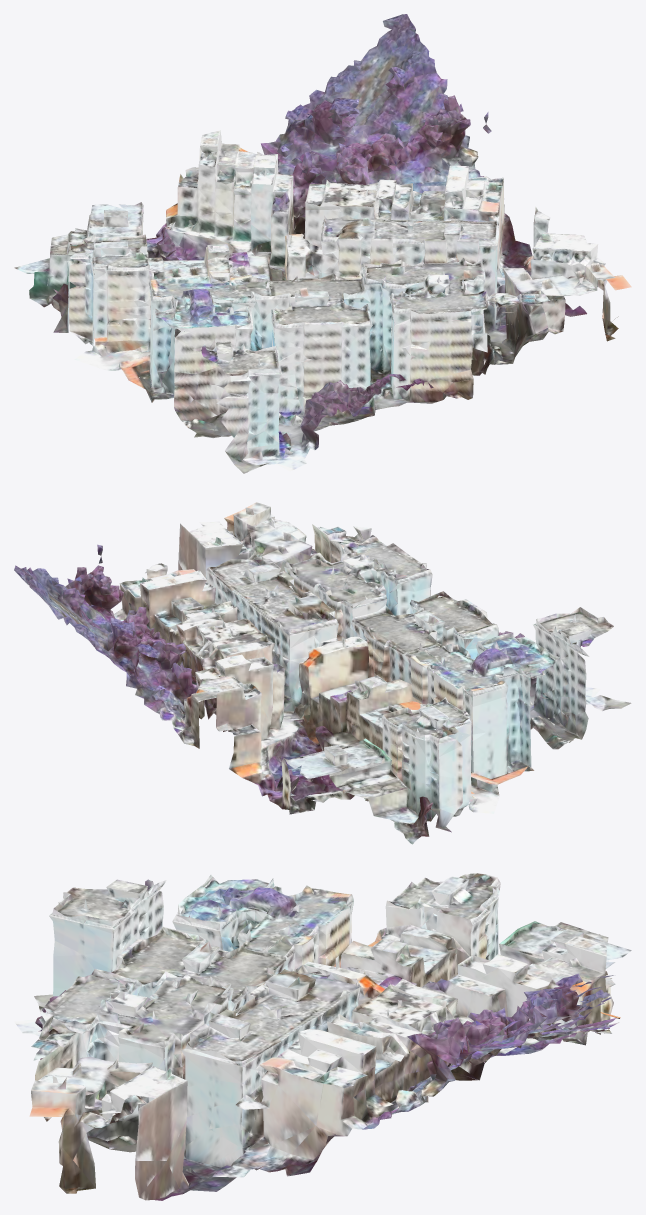
The model's file is Tile_+012_+019_L18_00000.glb.
3 renders of one model, top to bottom at view 1: azimuth 30°, elevation 25°; view 2: azimuth 150°, elevation 25°; view 3: azimuth 270°, elevation 25°, orthographic. The views are drawn at different scales.
Parts seen in each view (by area): view 1: rtc; view 2: rtc; view 3: rtc.
Part boxes in pixels (x1,y1,x2,y2): rtc: (14, 14, 631, 473); rtc: (14, 502, 631, 844); rtc: (14, 873, 631, 1200).
Bounding box in the file's own units: 113 × 52.16 × 112.
1 material, 1 textured.
